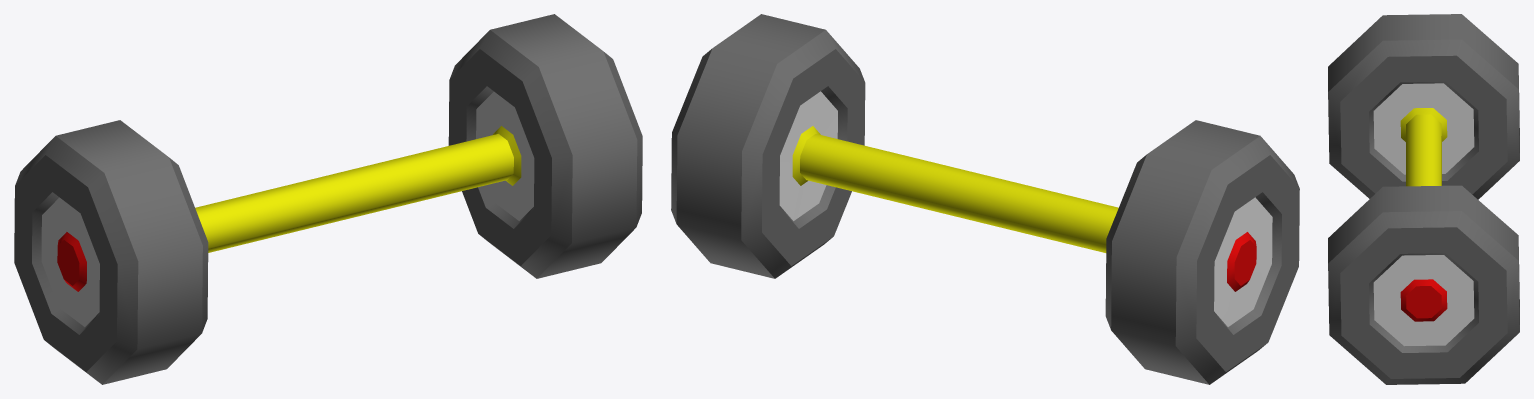
The model's file is Cook_Wheel.fbx.
3 views of the same model, side by side, from view 1: azimuth 30°, elevation 25°; view 2: azimuth 150°, elevation 25°; view 3: azimuth 270°, elevation 25° (orthographic). The views are drawn at different scales.
Parts seen in each view (by area): view 1: Cook_Wheel; view 2: Cook_Wheel; view 3: Cook_Wheel.
Part boxes in pixels (x1=…): Cook_Wheel: x1=14, y1=14, x2=642, y2=384; Cook_Wheel: x1=671, y1=14, x2=1299, y2=384; Cook_Wheel: x1=1328, y1=14, x2=1519, y2=384.
Size of the model in its own units: 145 by 56.64 by 56.64.
